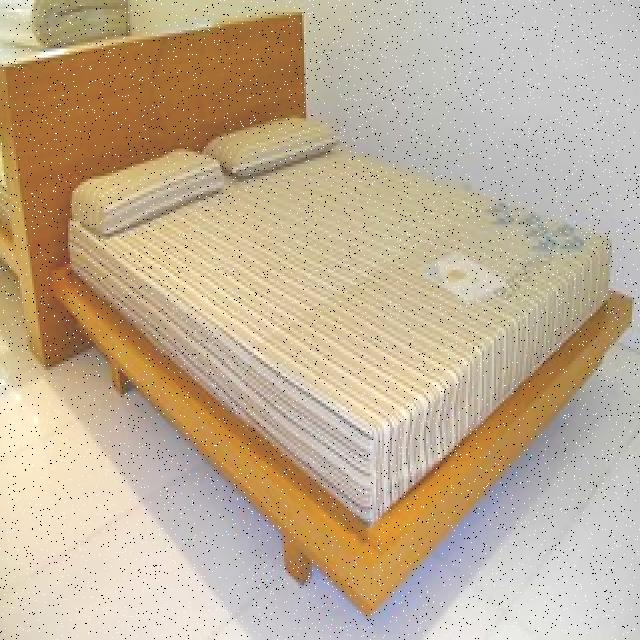bed: (53, 145, 634, 550)
